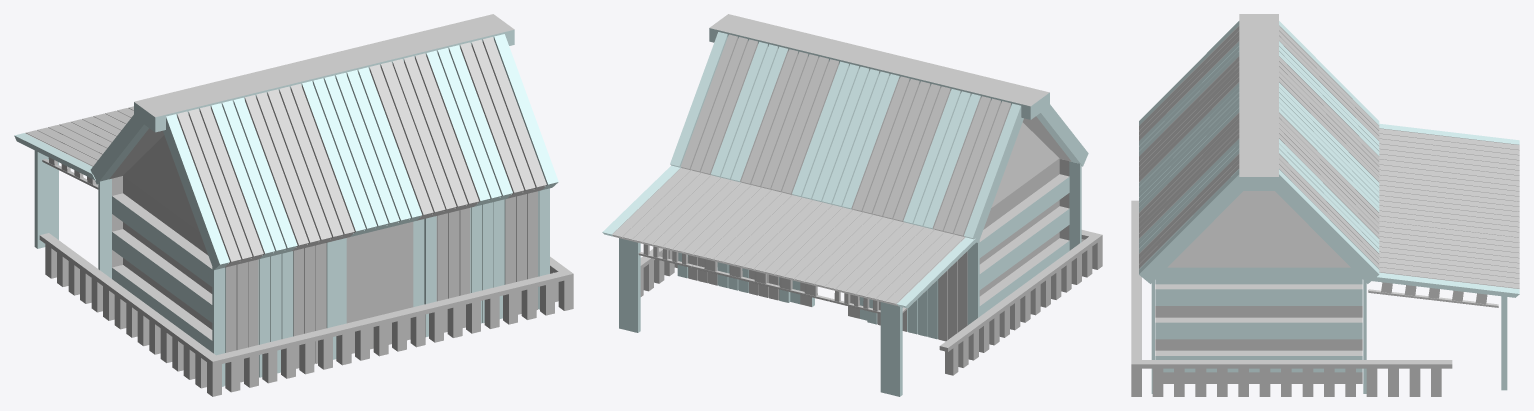
File: seehouse_02.fbx
3 views of the same model, side by side, from view 1: azimuth 30°, elevation 25°; view 2: azimuth 150°, elevation 25°; view 3: azimuth 270°, elevation 25° (orthographic). The views are drawn at different scales.
Visible parts, largest first — view 1: seehouse_02; view 2: seehouse_02; view 3: seehouse_02.
Part boxes in pixels (x1,y1,x2,y2): seehouse_02: (14, 14, 573, 396); seehouse_02: (602, 14, 1102, 396); seehouse_02: (1131, 14, 1519, 396).
Bounding box in the file's own units: 1112 × 709 × 1117.
